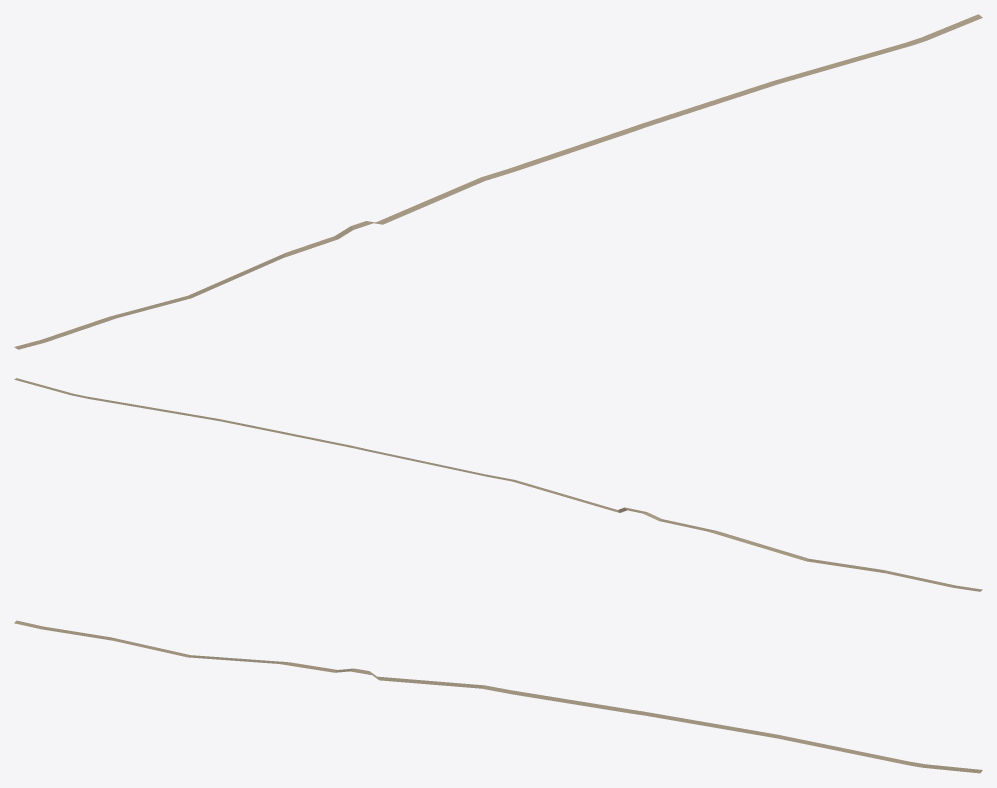
Rendered from farm_8_4_track.glb.
3 views of the same model, one above another, from view 1: azimuth 30°, elevation 25°; view 2: azimuth 150°, elevation 25°; view 3: azimuth 330°, elevation 25° (orthographic). The views are drawn at different scales.
Parts seen in each view (by area): view 1: geometry_0; view 2: geometry_0; view 3: geometry_0.
Boxes of the visible parts, bbox=[...] form: geometry_0: bbox=[14, 14, 982, 349]; geometry_0: bbox=[14, 378, 982, 591]; geometry_0: bbox=[14, 620, 982, 773].
Bounding box in the file's own units: 526 × 18.46 × 59.52.
